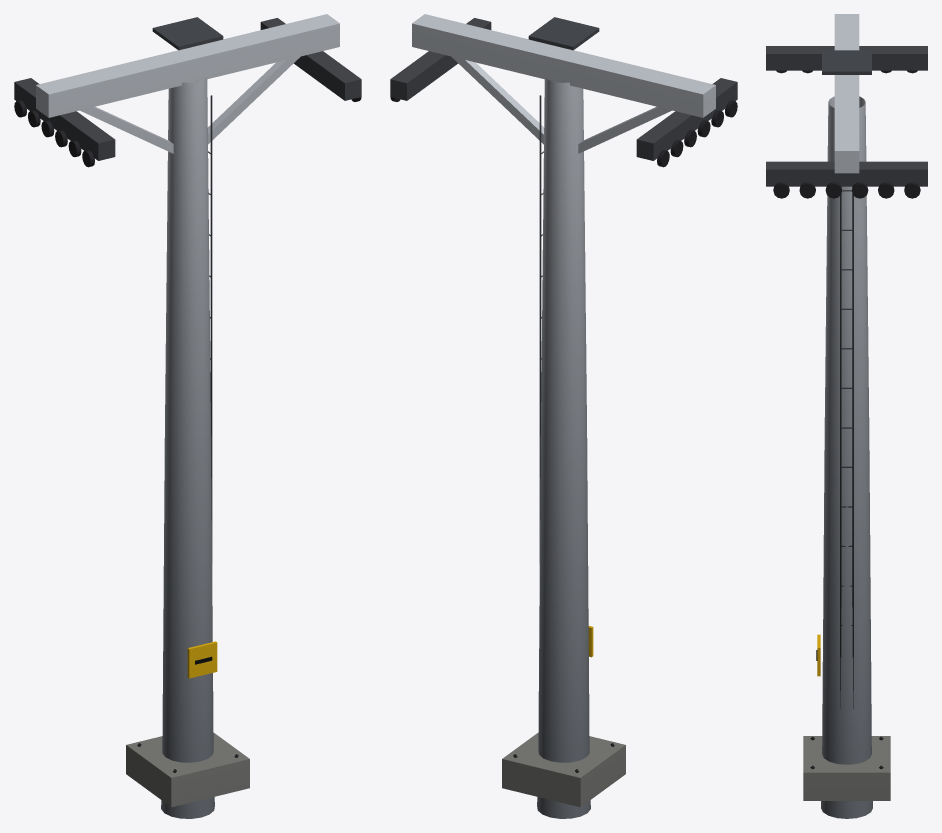
Rendered from Chairlift_Pylon.fbx.
3 views of the same model, side by side, from view 1: azimuth 30°, elevation 25°; view 2: azimuth 150°, elevation 25°; view 3: azimuth 270°, elevation 25° (orthographic). The views are drawn at different scales.
Visible parts, largest first — view 1: Chairlift_Pylon_LOD0; view 2: Chairlift_Pylon_LOD0; view 3: Chairlift_Pylon_LOD0.
Part boxes in pixels (x1,y1,x2,y2): Chairlift_Pylon_LOD0: [14, 14, 361, 818]; Chairlift_Pylon_LOD0: [390, 14, 737, 818]; Chairlift_Pylon_LOD0: [766, 14, 927, 818].
Size of what is drawn, in the model's own units: 5.2 by 13.23 by 2.6.
1 material, 1 textured.
